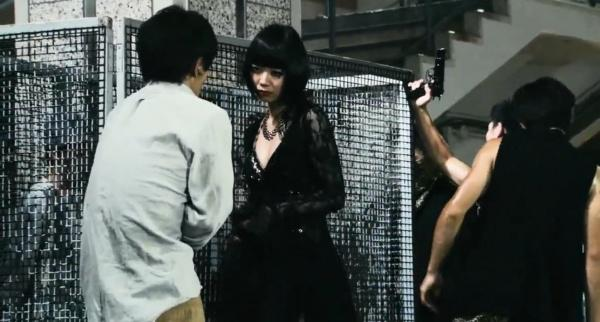Gun: (406, 47, 448, 107)
